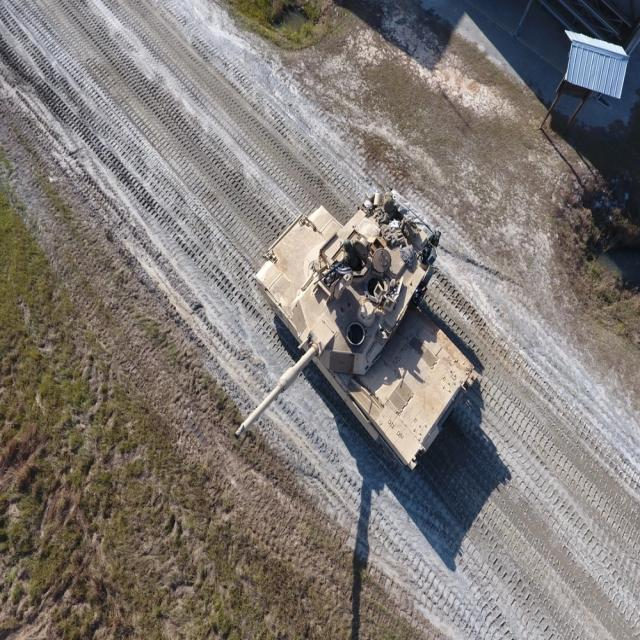Tanks: (228, 188, 482, 472)
